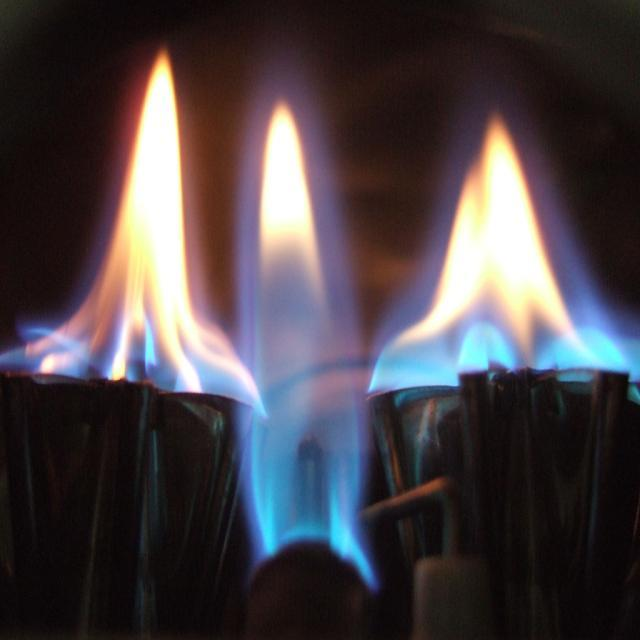Fire: (252, 125, 344, 500), (115, 54, 181, 368), (448, 121, 536, 352)
